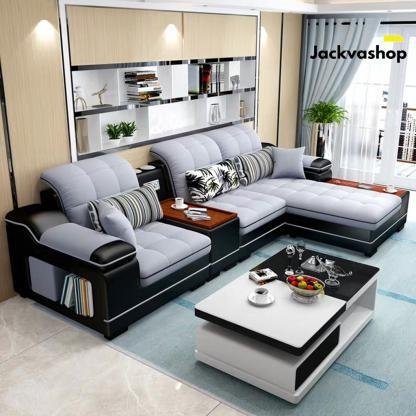bantal: (189, 161, 237, 198), (123, 183, 163, 225), (100, 203, 138, 244), (237, 145, 273, 181), (274, 146, 304, 178)
buku: (124, 68, 161, 104)
gelas: (253, 287, 271, 303), (174, 196, 185, 207)
meja: (197, 244, 387, 401)
sova: (3, 127, 416, 335)
tanaman: (106, 122, 137, 144)
